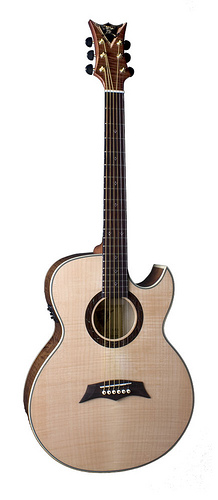guitar: (21, 21, 194, 473)
